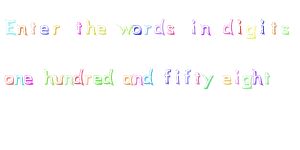E: (3, 16, 17, 38)
a: (120, 71, 134, 90)
d: (141, 63, 158, 86), (152, 12, 166, 39), (72, 63, 86, 90), (219, 15, 236, 37), (102, 62, 116, 86)
e: (22, 68, 37, 89), (92, 70, 104, 91), (95, 21, 110, 37), (220, 71, 233, 87), (38, 22, 50, 36)
f: (161, 66, 174, 87), (182, 64, 193, 86)
g: (240, 73, 254, 95), (244, 23, 258, 42)
h: (41, 65, 56, 89), (251, 65, 264, 88), (84, 16, 97, 38)
i: (187, 15, 200, 38), (257, 14, 269, 38), (234, 16, 246, 37), (232, 66, 242, 87), (173, 67, 182, 86)
n: (198, 21, 215, 38), (11, 70, 25, 89), (62, 69, 76, 88), (132, 70, 144, 90), (17, 22, 28, 37)
o: (2, 69, 16, 89), (131, 20, 143, 37)
r: (50, 22, 64, 36), (142, 20, 153, 37), (84, 73, 94, 87)
s: (280, 21, 294, 40), (165, 22, 177, 36)
t: (268, 17, 280, 37), (73, 17, 82, 39), (263, 69, 274, 87), (28, 19, 39, 35), (193, 70, 202, 87)
u: (51, 70, 66, 88)
w: (114, 21, 133, 38)
y: (201, 70, 216, 90)
